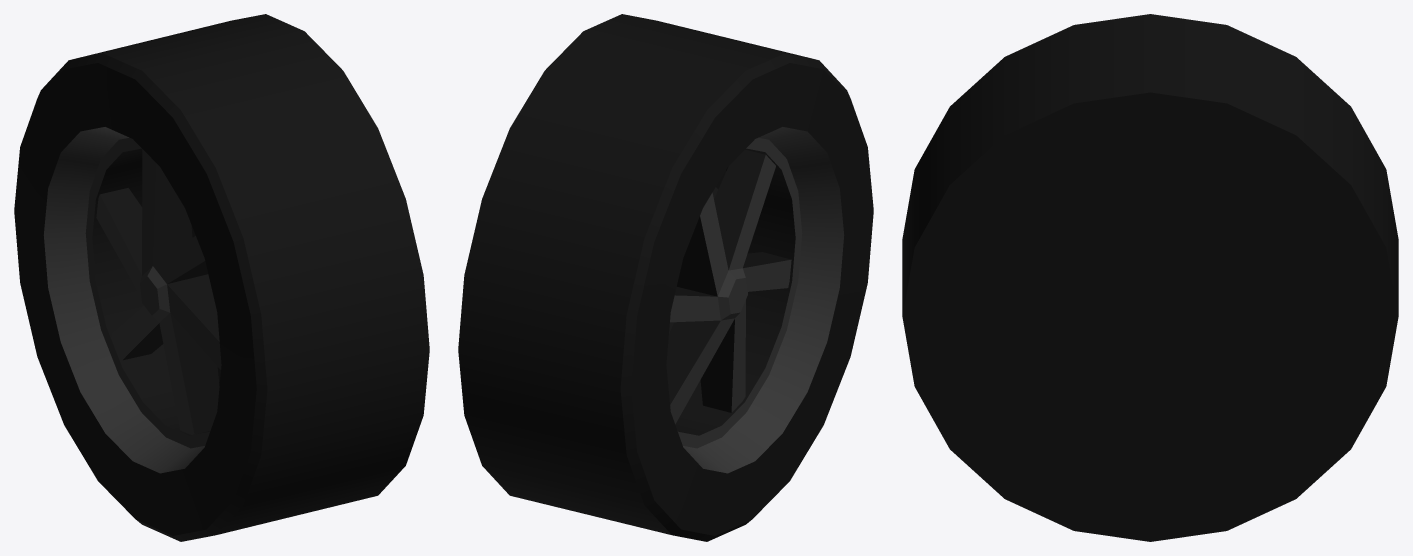
The model's file is supercar-wheel.glb.
The picture shows the model from 3 angles, left to right: view 1: azimuth 30°, elevation 25°; view 2: azimuth 150°, elevation 25°; view 3: azimuth 270°, elevation 25°; orthographic projection.
Visible parts, largest first — view 1: model; view 2: model; view 3: model.
Part boxes in pixels (x1=…): model: x1=14, y1=14, x2=429, y2=541; model: x1=458, y1=14, x2=873, y2=541; model: x1=902, y1=14, x2=1398, y2=541.
Bounding box in the file's own units: 0.3111 × 0.7851 × 0.7851.
Materials: 1 (1 with a texture image).
